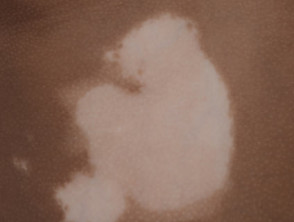vitiligo: (30, 16, 248, 222)
